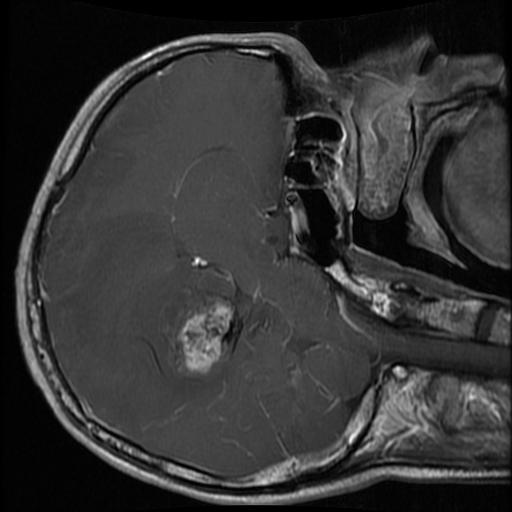glioma: (165, 296, 245, 383)
